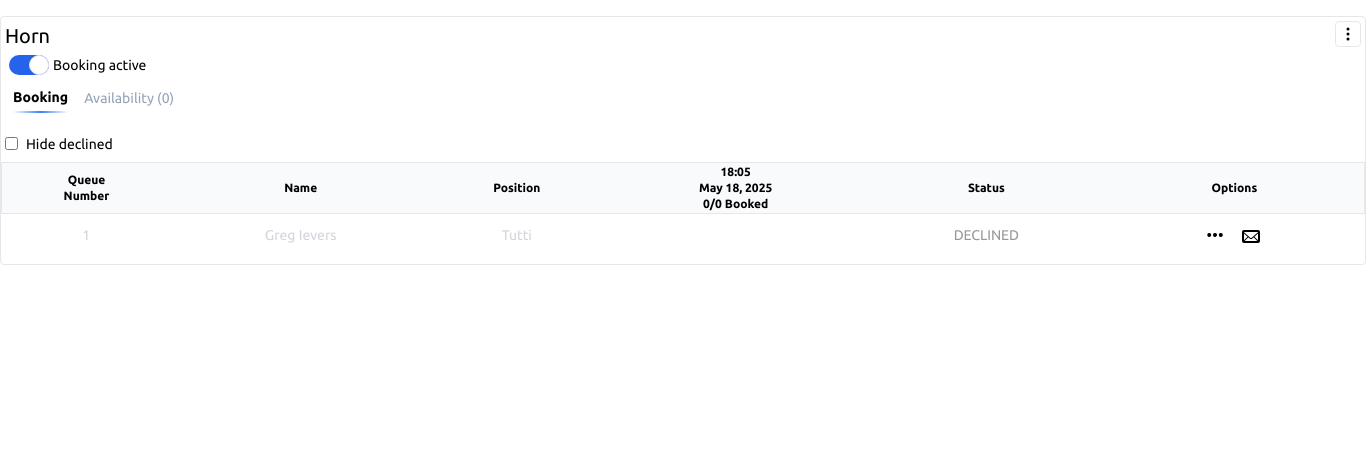
Test: <EventSectionIndex /> › if updateSection, <CreateEventSection /> is in the document
Click the button with test id "options-btn" at (1348, 34), box x1=1335 y1=21 x2=1361 y2=47
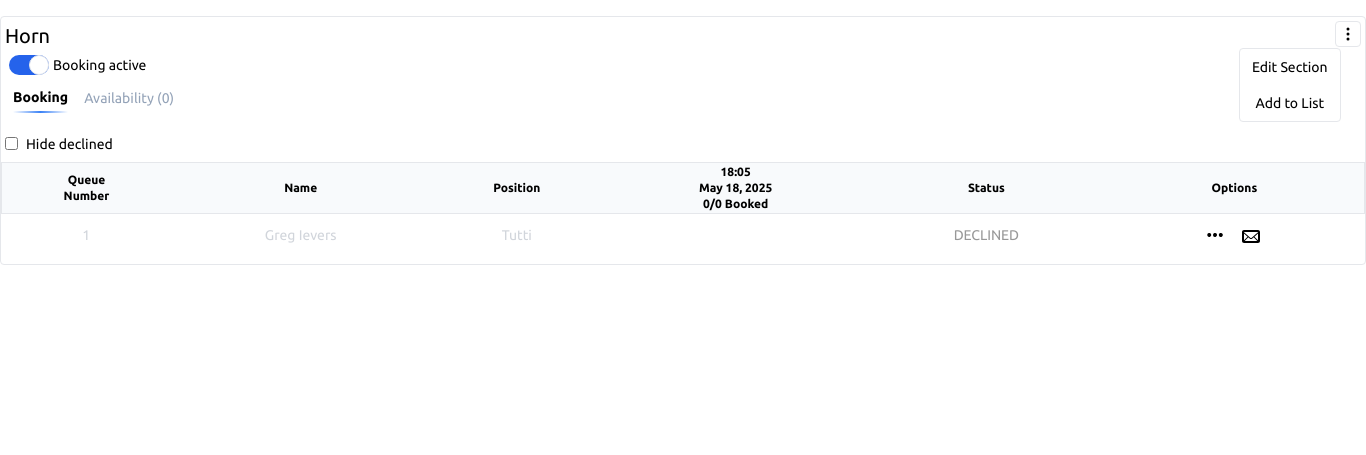
Click the button "Edit Section" at (1290, 67), box x1=1244 y1=53 x2=1336 y2=81
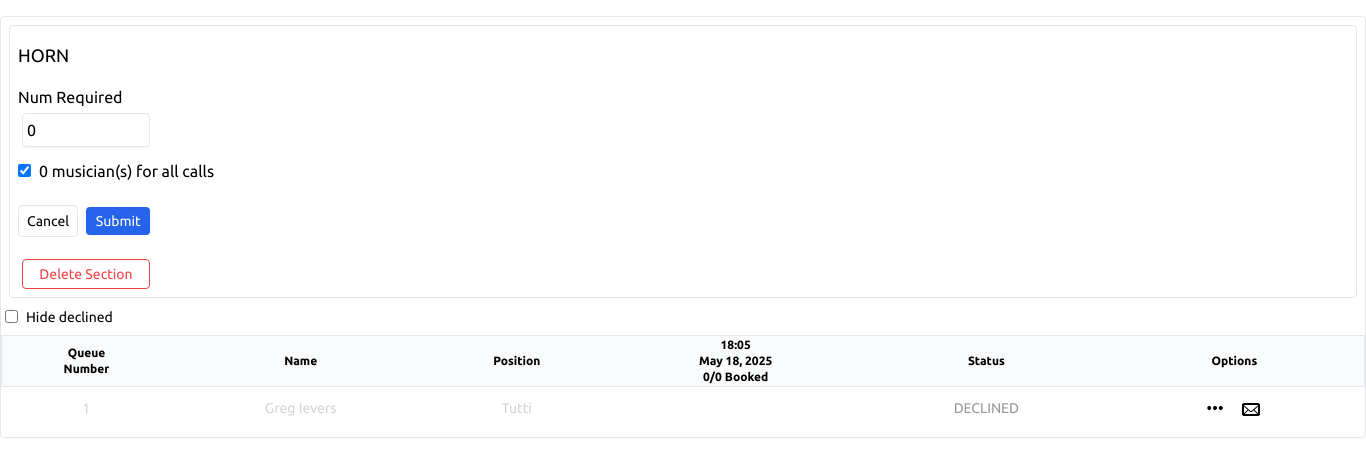
Expected: the element with test id "create-event-section" is shown, x1=9 y1=25 x2=1357 y2=298
